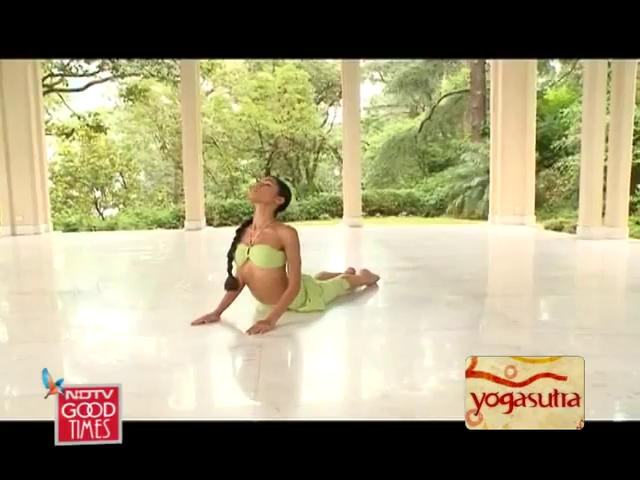person: (190, 175, 382, 336)
